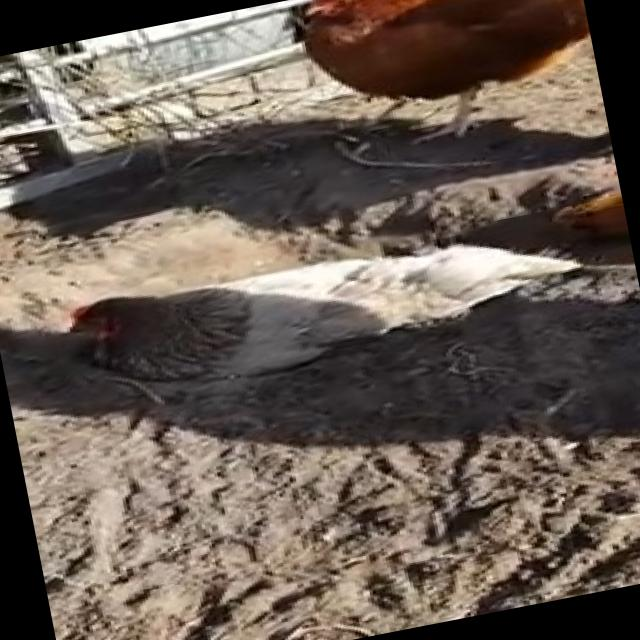stand bath: (36, 179, 594, 435)
